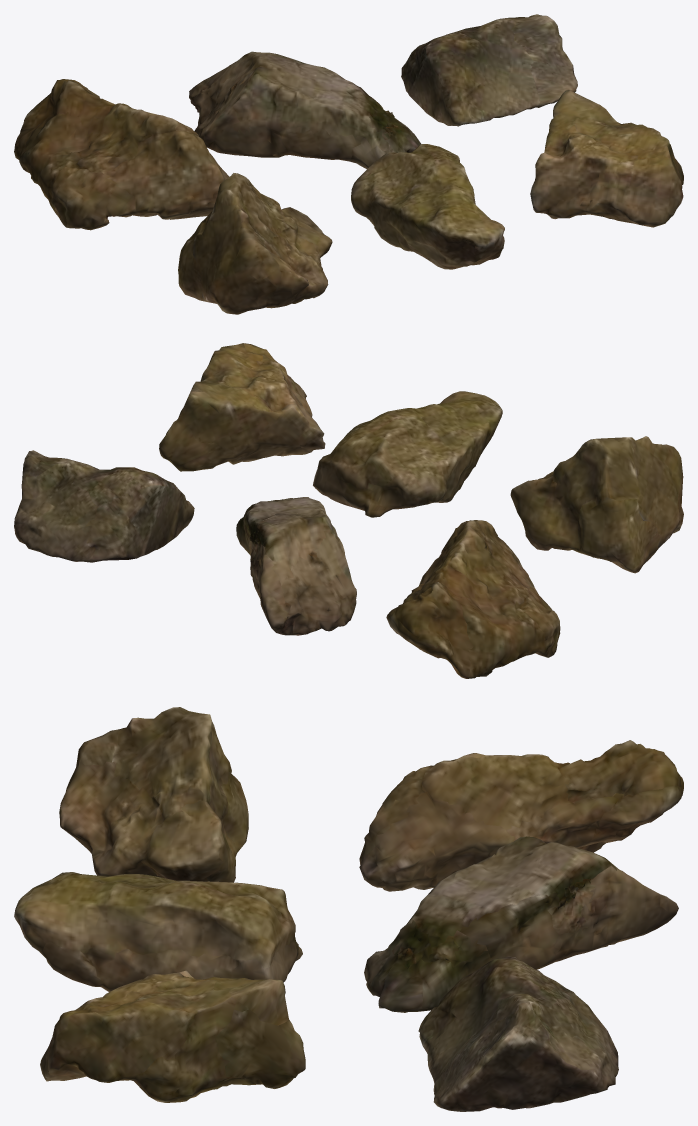
Rendered from rocks-moss-01.c4bad0cb.glb.
3 renders of one model, top to bottom at view 1: azimuth 30°, elevation 25°; view 2: azimuth 150°, elevation 25°; view 3: azimuth 270°, elevation 25°, orthographic. The views are drawn at different scales.
Visible parts, largest first — view 1: model; view 2: model; view 3: model.
Boxes of the visible parts, x1,y1,x2,y2 form: model: [14, 14, 683, 314]; model: [14, 343, 683, 678]; model: [14, 707, 683, 1111].
Bounding box in the file's own units: 8 × 1.76 × 6.94.
1 material, 1 textured.
